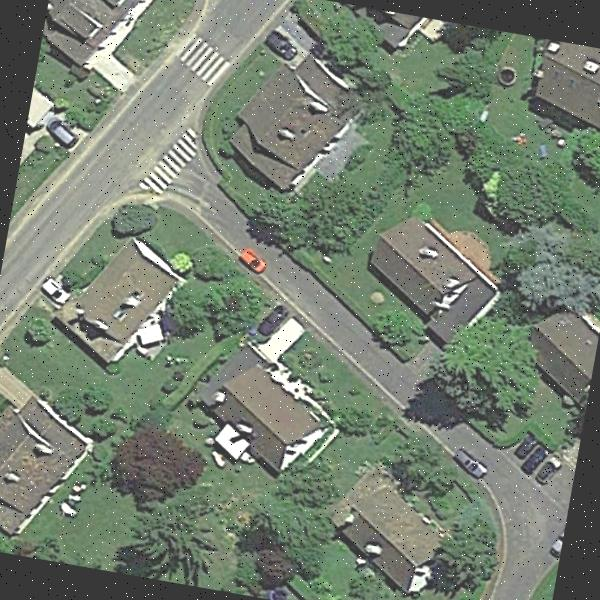Buildings: (224, 55, 346, 186), (196, 363, 322, 468), (370, 219, 492, 322), (0, 411, 76, 536), (82, 228, 166, 337), (343, 490, 442, 580), (529, 38, 600, 138), (41, 0, 144, 57), (526, 324, 598, 390), (351, 5, 438, 54)
